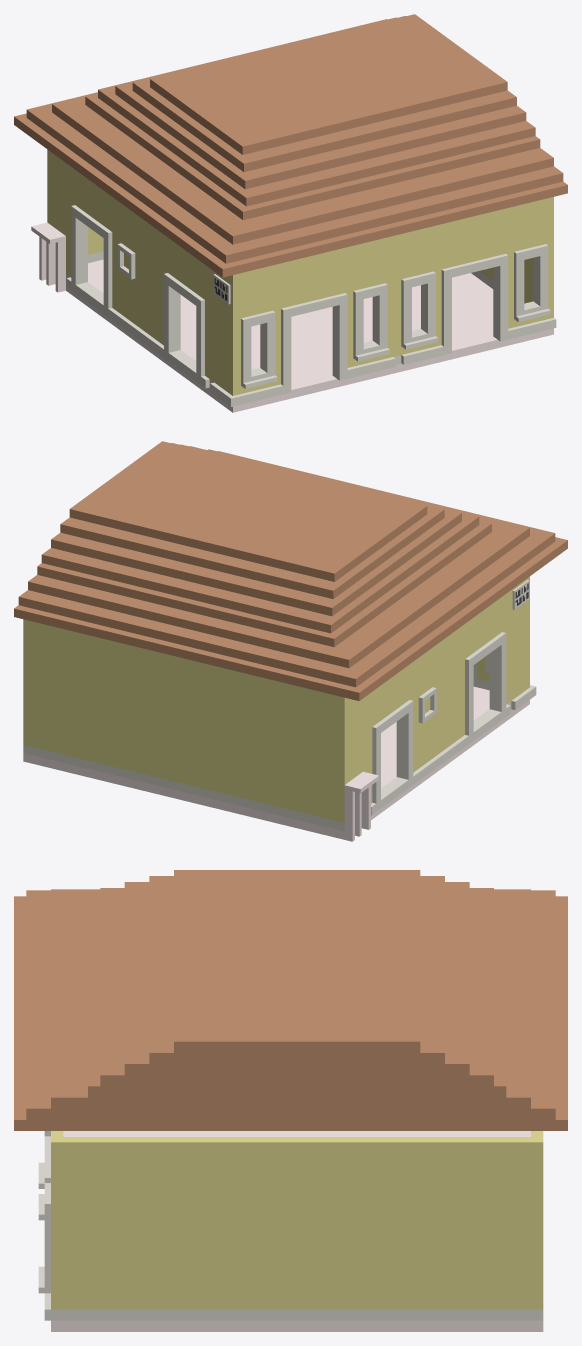
The model's file is pozzi.obj.
3 views of the same model, one above another, from view 1: azimuth 30°, elevation 25°; view 2: azimuth 150°, elevation 25°; view 3: azimuth 270°, elevation 25° (orthographic). The views are drawn at different scales.
Bounding box in the file's own units: 17.2 × 10.4 × 18.
Materials: 1 (1 with a texture image).
